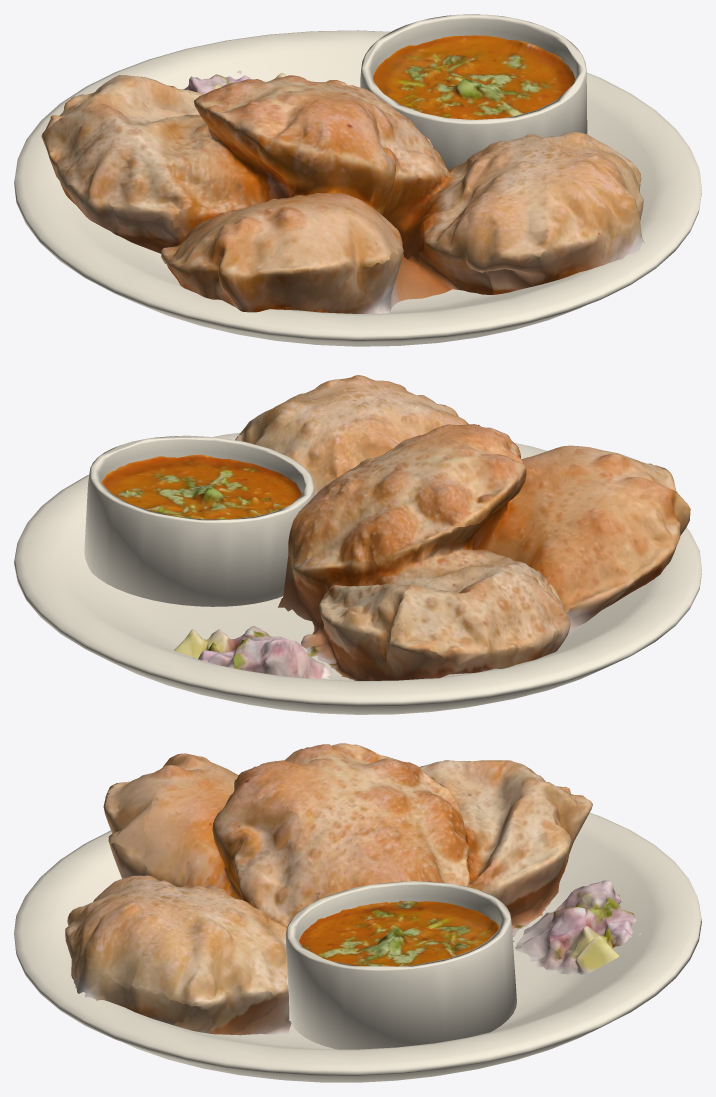
3 renders of one model, top to bottom at view 1: azimuth 30°, elevation 25°; view 2: azimuth 150°, elevation 25°; view 3: azimuth 270°, elevation 25°, orthographic.
Visible parts, largest first — view 1: low3; view 2: low3; view 3: low3.
Part boxes in pixels (x1,y1,x2,y2): low3: (14, 14, 701, 346); low3: (14, 375, 701, 714); low3: (14, 743, 701, 1082).
Size of the model in its own units: 0.2537 by 0.0762 by 0.2536.
Materials: 1 (1 with a texture image).
